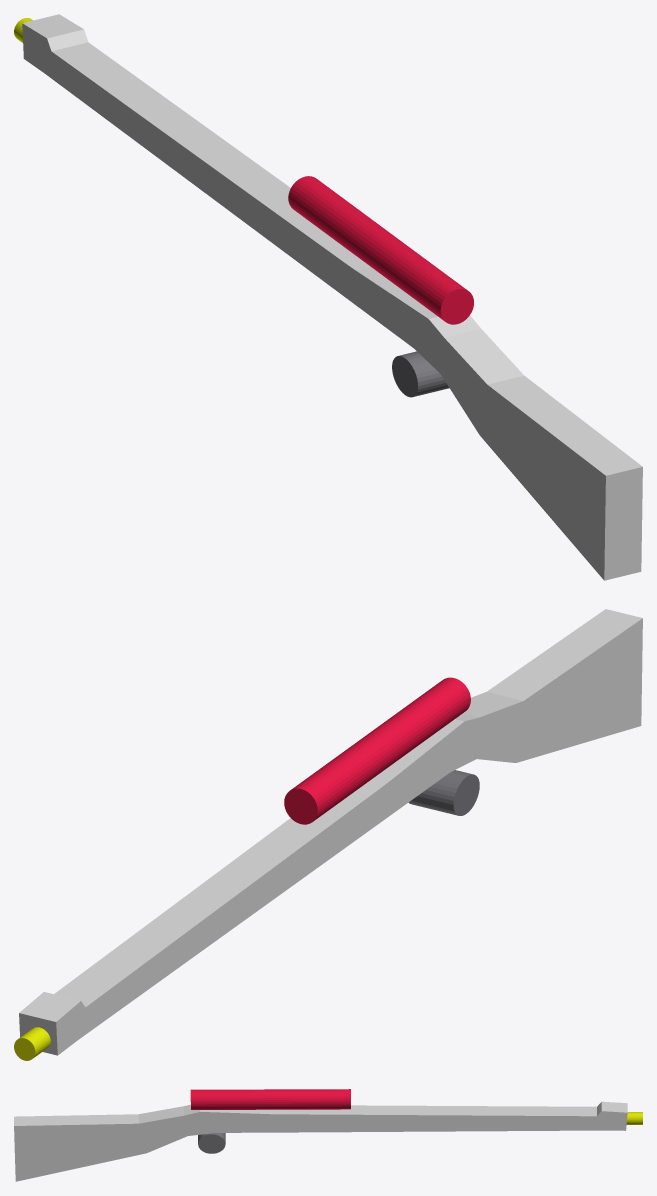
File: Rifle.gltf
3 renders of one model, top to bottom at view 1: azimuth 30°, elevation 25°; view 2: azimuth 150°, elevation 25°; view 3: azimuth 270°, elevation 25°, orthographic. The views are drawn at different scales.
Parts seen in each view (by area): view 1: Cube, Cylinder, Cube.002; view 2: Cube, Cylinder, Cube.002, Cylinder.001; view 3: Cube, Cylinder, Cube.002, Cylinder.001.
Part boxes in pixels (x1=…): Cube: x1=22, y1=14, x2=642, y2=580; Cylinder: x1=288, y1=176, x2=473, y2=324; Cube.002: x1=392, y1=351, x2=449, y2=397; Cube: x1=19, y1=609, x2=642, y2=1055; Cylinder: x1=284, y1=677, x2=470, y2=824; Cube.002: x1=408, y1=770, x2=479, y2=815; Cylinder.001: x1=14, y1=1027, x2=50, y2=1060; Cube: x1=14, y1=1101, x2=627, y2=1181; Cylinder: x1=190, y1=1089, x2=350, y2=1109; Cube.002: x1=198, y1=1133, x2=225, y2=1153; Cylinder.001: x1=626, y1=1112, x2=642, y2=1124.
Bounding box in the file's own units: 0.4148 × 1.32 × 8.64.
